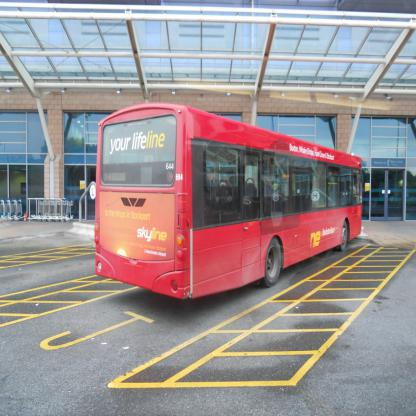Bus: (93, 100, 366, 302)
